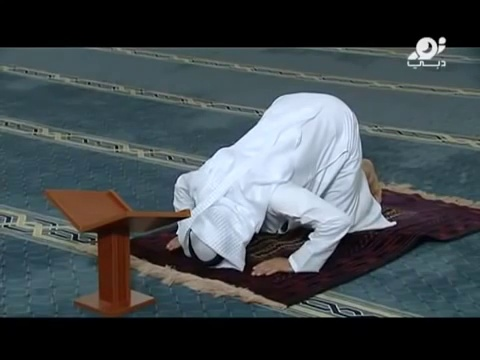sujud: (163, 92, 386, 280)
